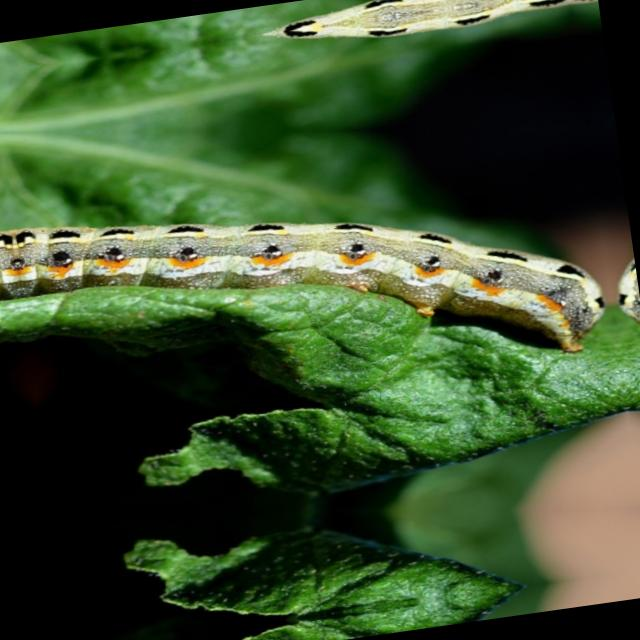Armyworm: (1, 128, 614, 440), (249, 1, 601, 85)
